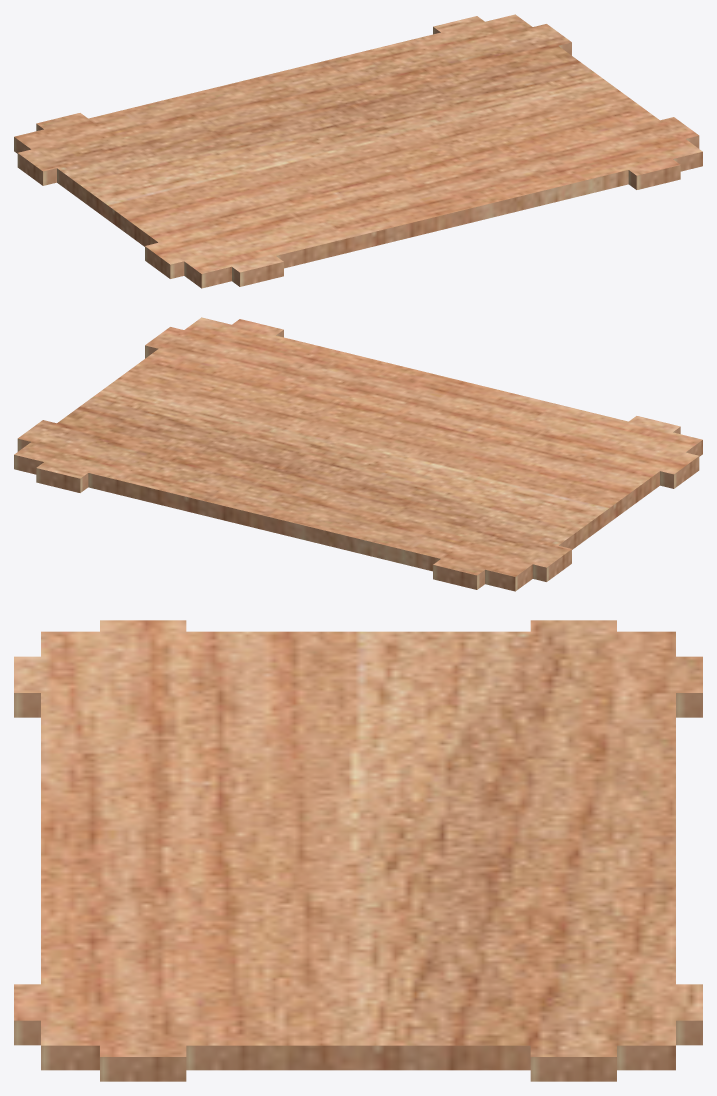
Rendered from Bottom Panel.obj.
3 renders of one model, top to bottom at view 1: azimuth 30°, elevation 25°; view 2: azimuth 150°, elevation 25°; view 3: azimuth 270°, elevation 25°, orthographic. The views are drawn at different scales.
Visible parts, largest first — view 1: Solid1; view 2: Solid1; view 3: Solid1.
Boxes of the visible parts, x1,y1,x2,y2 form: Solid1: (14,14,702,288); Solid1: (14,317,702,591); Solid1: (14,620,702,1081).
Size of the model in its own units: 152 by 4 by 102.
1 material, 1 textured.
